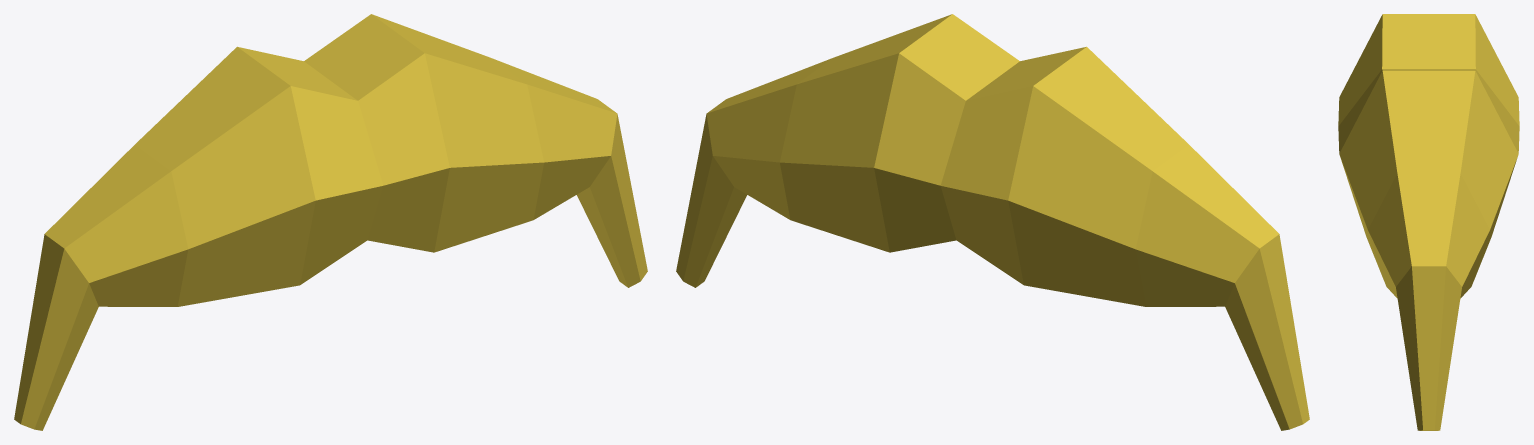
The model's file is BigotePabajo.fbx.
The picture shows the model from 3 angles, left to right: view 1: azimuth 30°, elevation 25°; view 2: azimuth 150°, elevation 25°; view 3: azimuth 270°, elevation 25°; orthographic projection. The views are drawn at different scales.
Parts seen in each view (by area): view 1: BigotePabajo; view 2: BigotePabajo; view 3: BigotePabajo.
Part boxes in pixels (left/top/right/bottom): BigotePabajo: left=14, top=14, right=647, bottom=430; BigotePabajo: left=676, top=14, right=1309, bottom=430; BigotePabajo: left=1338, top=14, right=1519, bottom=430.
Size of the model in its own units: 13.8 by 6.44 by 3.99.
